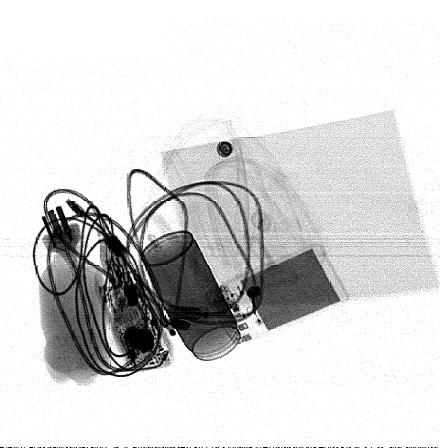Powerbank: (204, 242, 350, 348)
